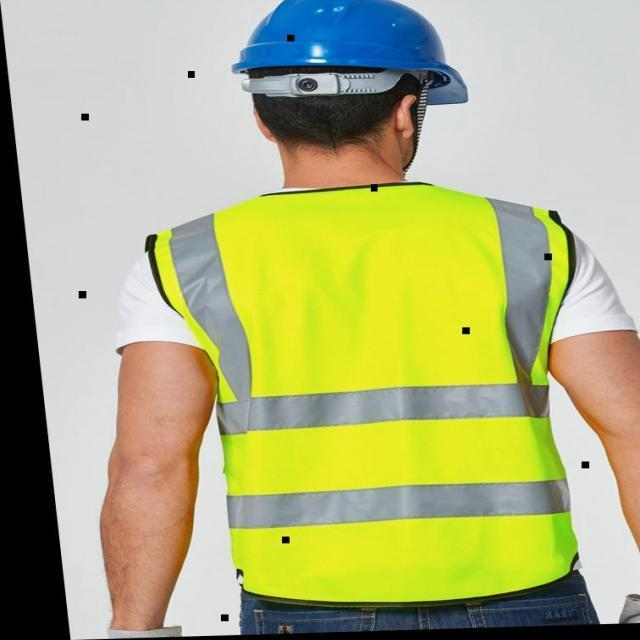safety_helmet: (142, 187, 592, 603)
